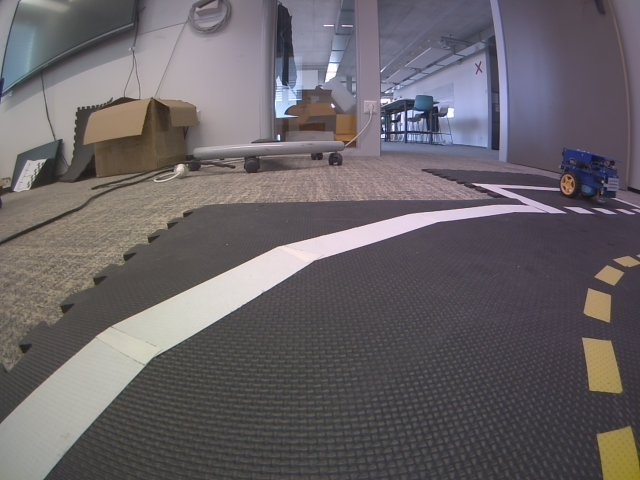Bot: (558, 146, 621, 204)
occupiedSlot: (471, 182, 640, 214)
